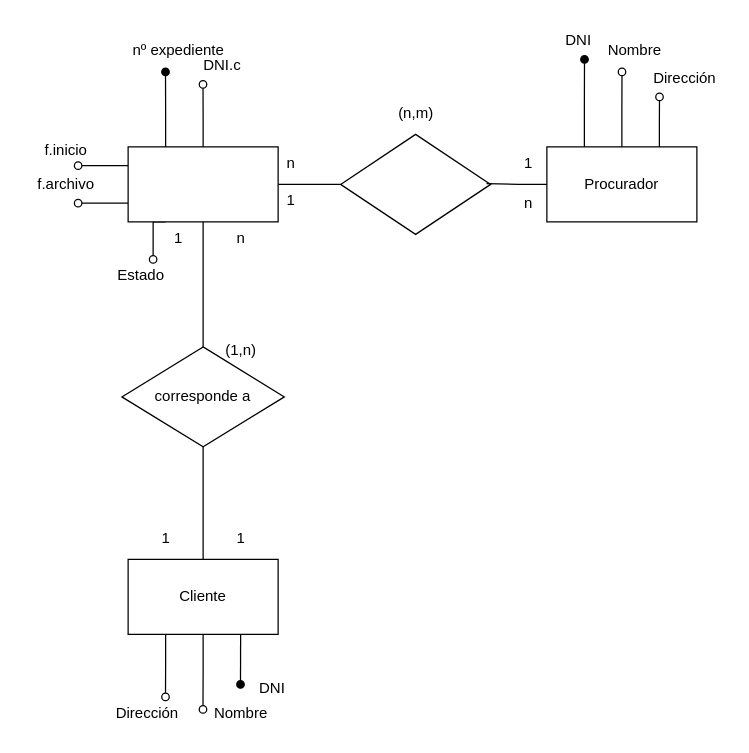
This 749x753 diagram has some shape labels left out. Each missing label, with the centre of its shape:
"Asunto" goes at (x=202, y=184).
"llevado por" goes at (x=415, y=183).
